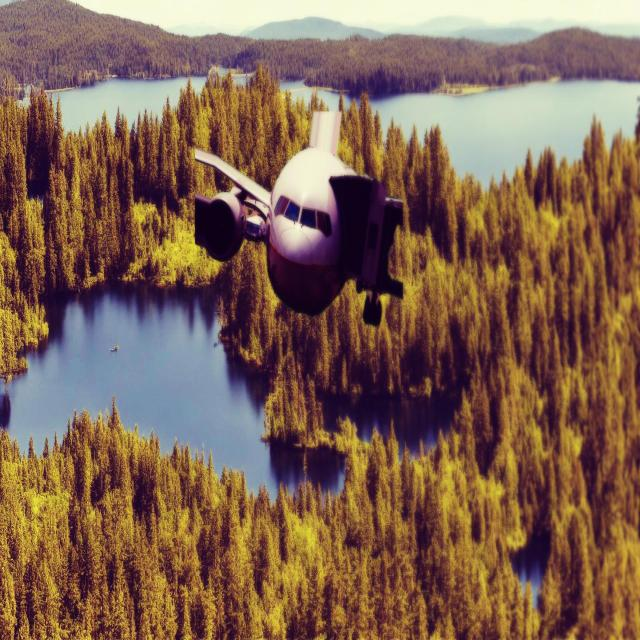airplane: (193, 108, 404, 326)
